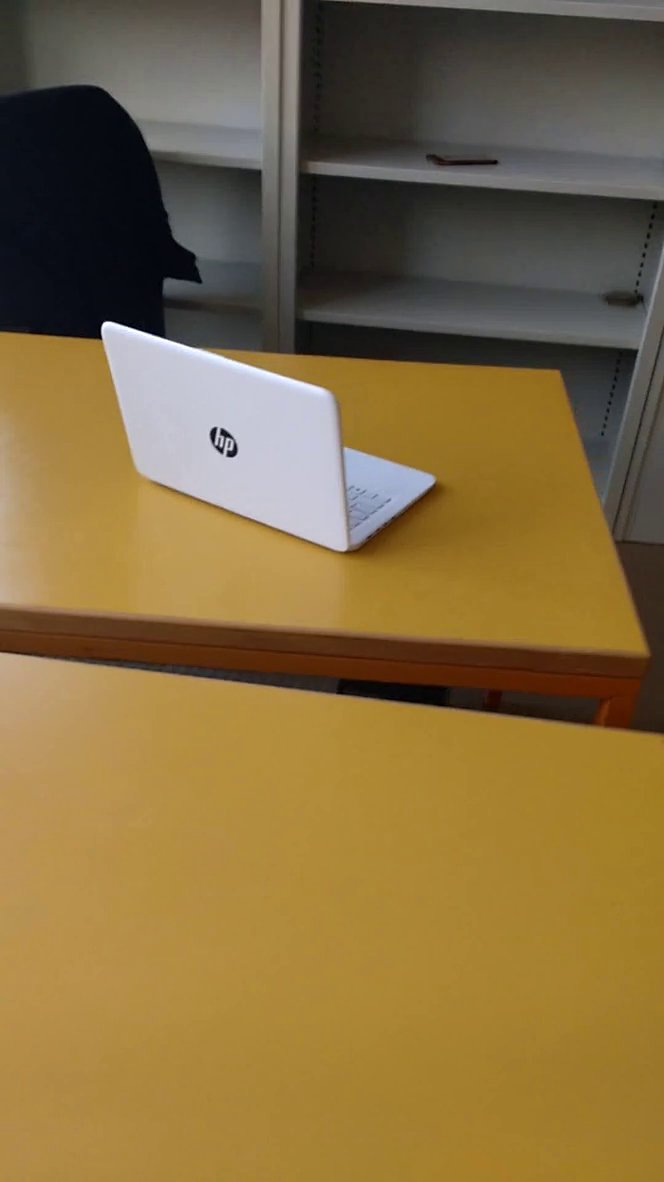laptop: (93, 309, 449, 563)
